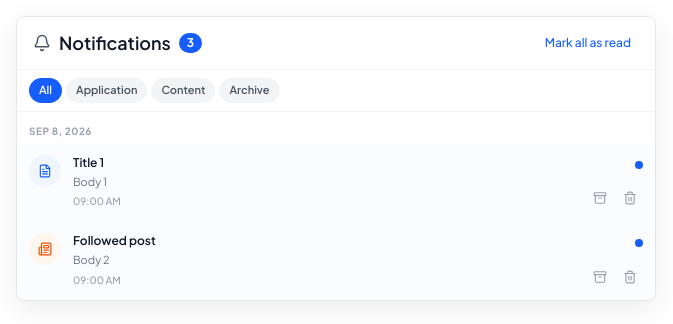
Test: student notification surfaces › canonical inbox tabs derive from shared categories and items link via resolveRoute
Click the button "content" at point(183, 90), box [151, 78, 216, 102]
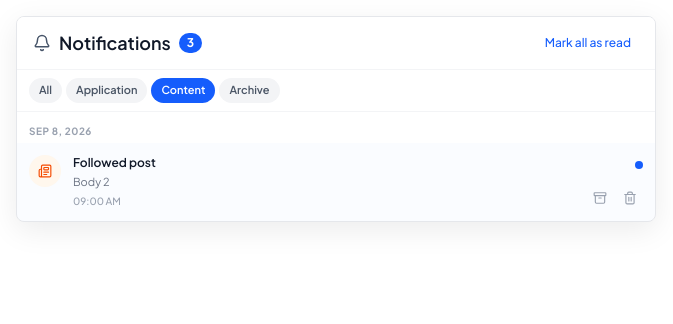
Expected: the text "Followed post" is shown, [73, 154, 156, 170]
Result: the text "Title 1" is gone
